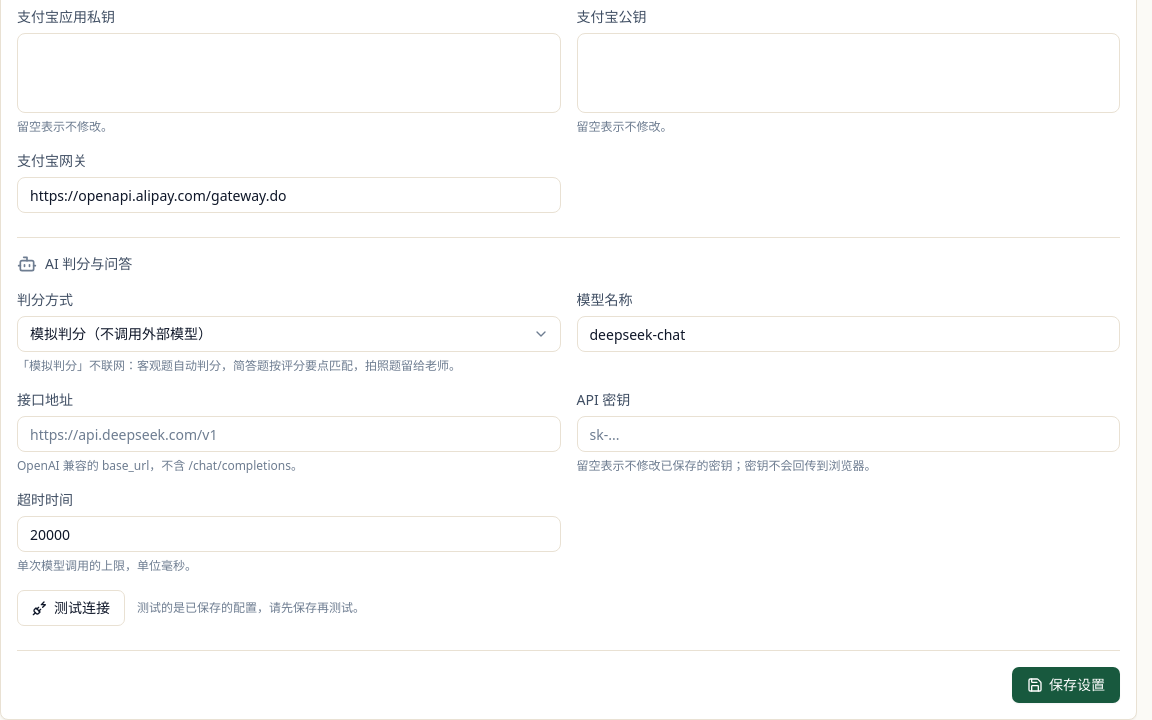
it: AdminSettings › the AI provider section › shows the connection result in place, including the provider that actually answered
This screenshot has width=1152, height=720.
(page scrolled)
Click the button "测试连接".
click(71, 608)  # box [17, 590, 125, 626]
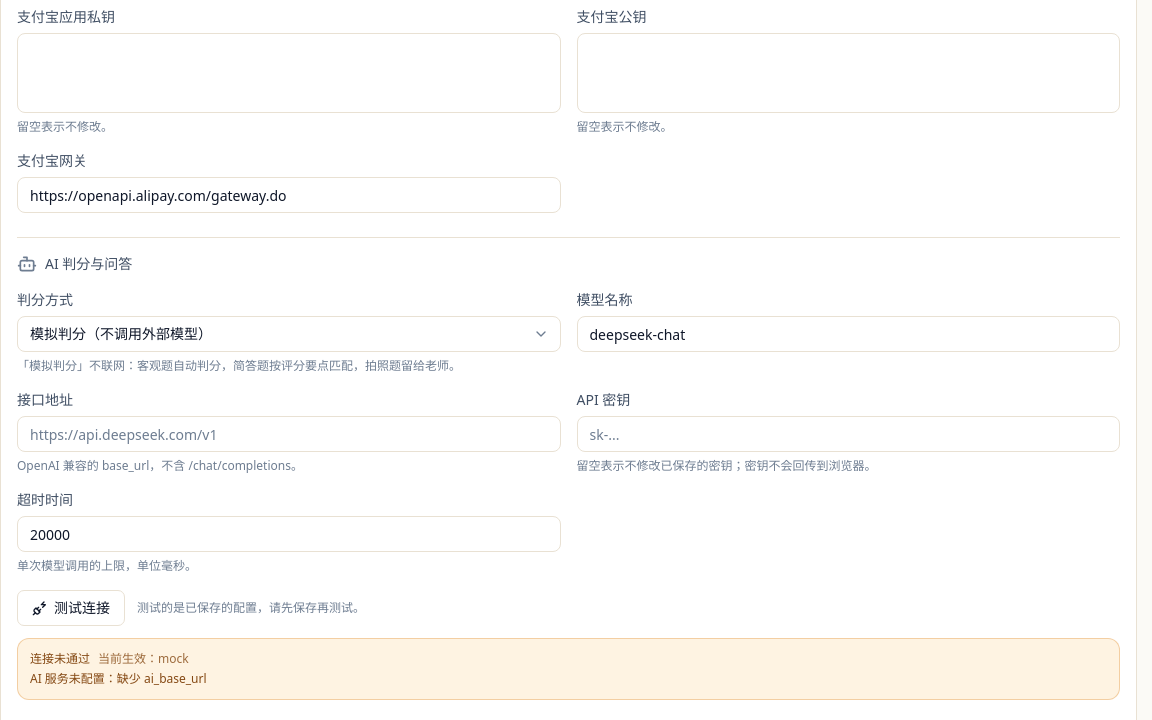
expect the text "连接未通过" is shown: met, box [30, 650, 90, 667]
expect the text "当前生效：mock" is shown: met, box [98, 650, 189, 667]
expect the text "AI 服务未配置：缺少 ai_base_url" is shown: met, box [30, 670, 207, 687]
